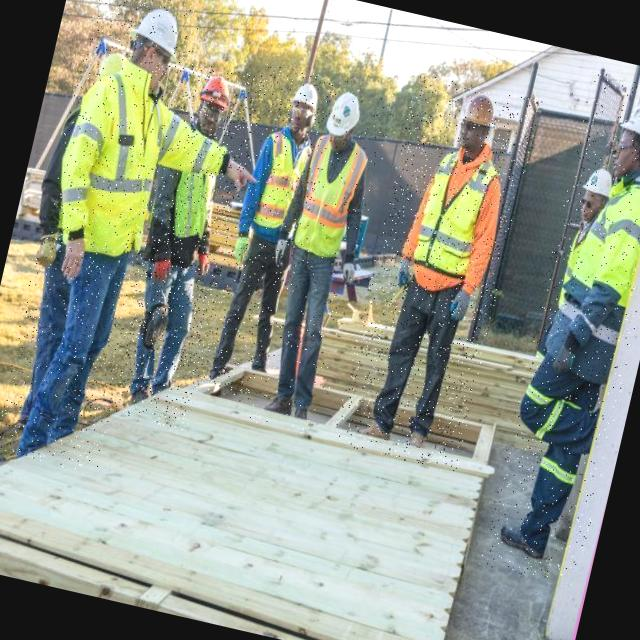boots: (495, 521, 550, 561), (356, 416, 394, 441), (260, 391, 294, 418), (406, 428, 430, 448)
gloves: (132, 222, 181, 290), (386, 253, 422, 304), (185, 232, 218, 282), (442, 282, 476, 327), (333, 246, 366, 292), (268, 221, 294, 271), (222, 232, 250, 277), (558, 318, 589, 356)
helmet: (126, 3, 188, 63), (450, 92, 510, 137), (323, 88, 366, 140), (287, 78, 324, 115), (199, 72, 235, 110), (617, 92, 640, 151), (581, 166, 615, 200)
no-gloves: (216, 145, 264, 209), (46, 230, 96, 290)
vest: (45, 53, 246, 277), (535, 167, 640, 387), (412, 147, 502, 280), (289, 132, 373, 264), (246, 128, 316, 235), (165, 165, 220, 245)
